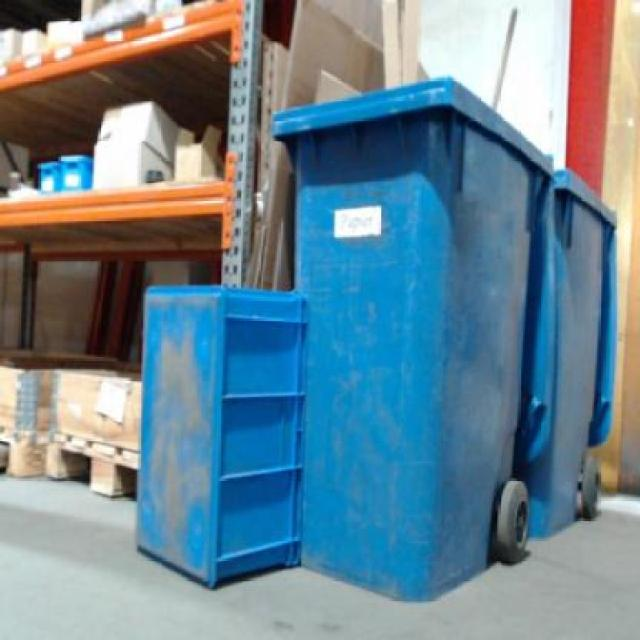pallet: (41, 421, 151, 508)
